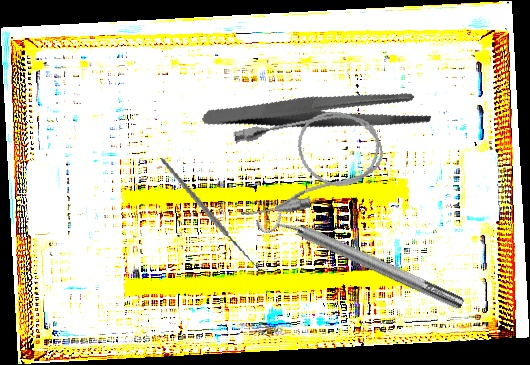Cannula: (222, 100, 392, 223)
Dressing Forceps: (200, 48, 437, 175)
Fixation Ring: (252, 195, 470, 323)
Hook Surgical: (160, 142, 268, 286)
